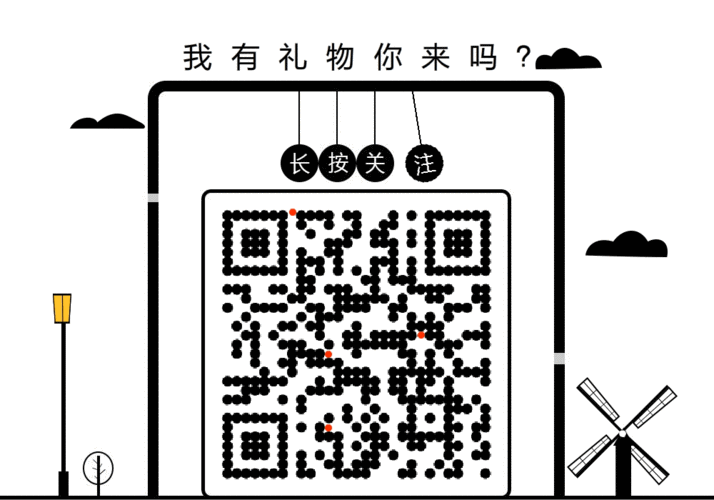QRCode: (218, 203, 497, 489)
